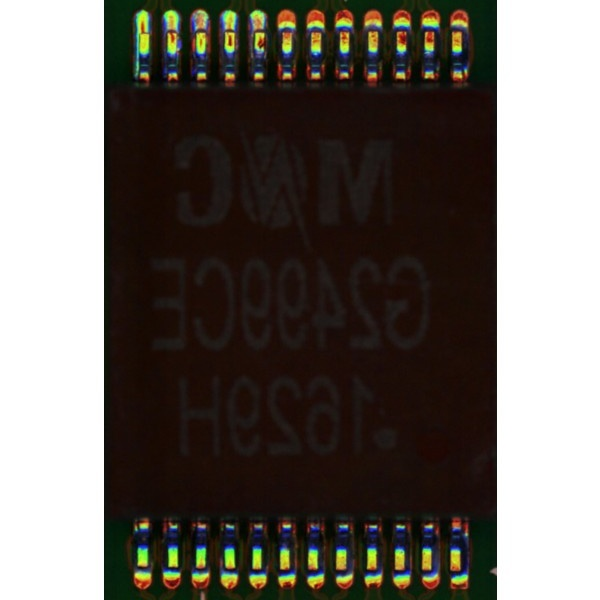Bad_podu: (195, 24, 207, 37), (254, 25, 265, 37), (225, 24, 235, 37), (139, 23, 146, 38), (168, 25, 176, 36)
Bad_qiaojiao: (133, 33, 139, 78), (248, 33, 255, 60)
